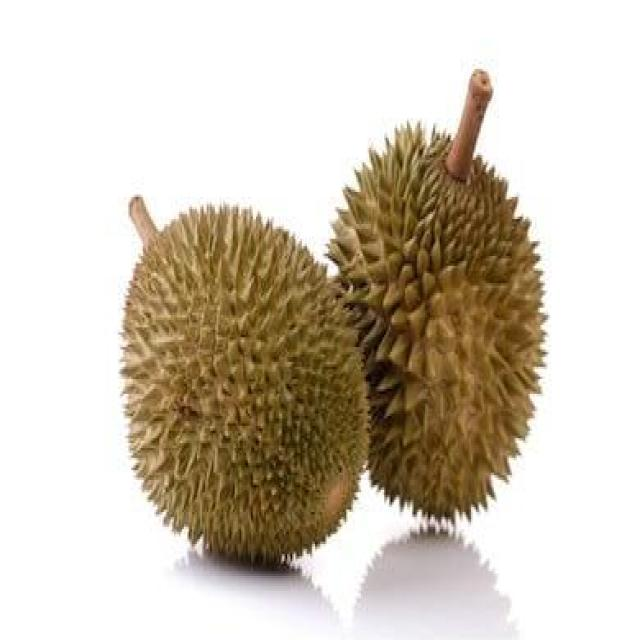mature: (121, 197, 366, 565), (329, 124, 545, 520)
